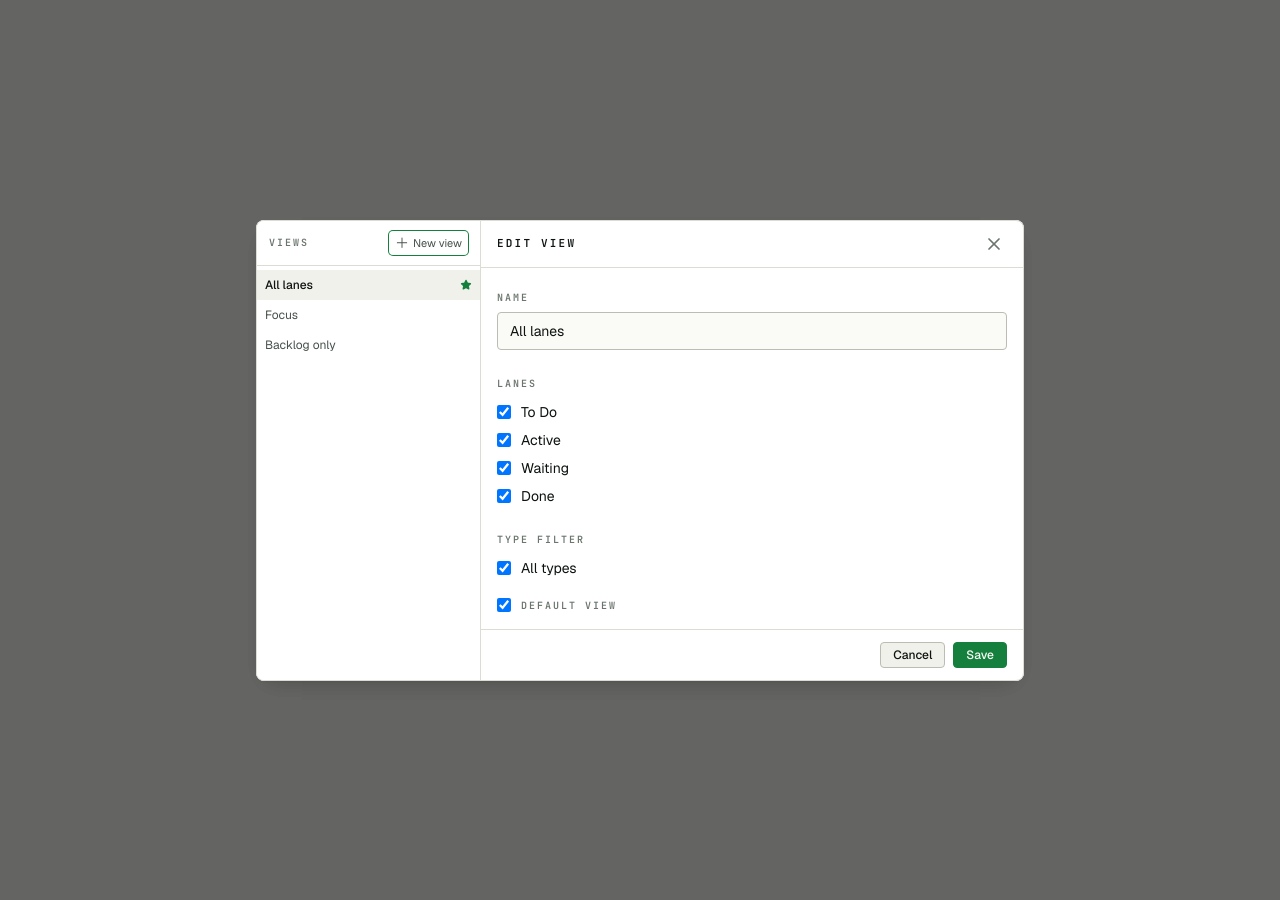
Test case: ViewEditor — rendering & selection › '+ New view' button switches to a blank form with all lanes selected and no type filter
Expected: the field showing "All lanes" is shown, [497,312,1007,350]
# Act — click "New view" in the left-pane header.
Click the button "＋ New view".
click(428, 243)  # box [389,230,468,255]
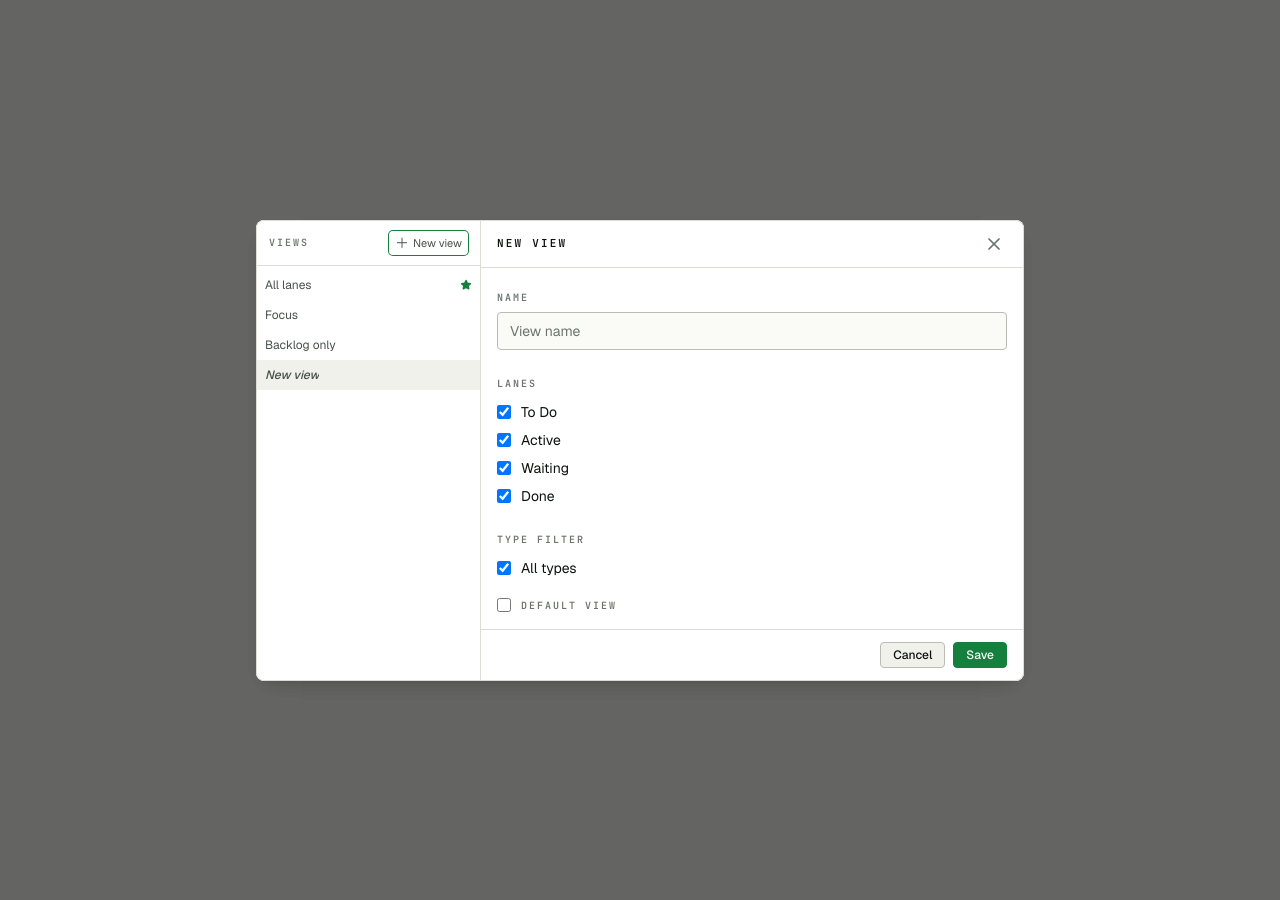
Expected: the heading "New view" is shown, [497,235,567,252]
Expected: the field with placeholder "View name" is empty, [497,312,1007,350]
Expected: the checkbox labelled "Default view" is not checked, [497,598,511,612]
